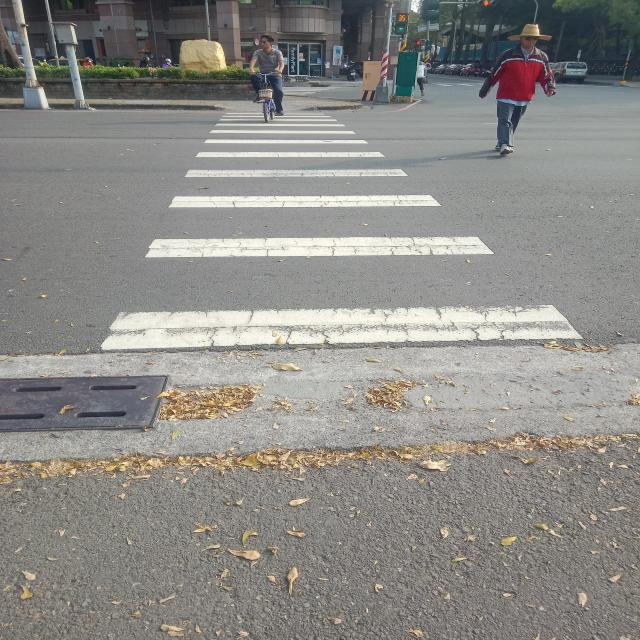person: (478, 25, 555, 155), (250, 34, 285, 115), (417, 61, 427, 96)
zebra crossing: (106, 108, 582, 350)
